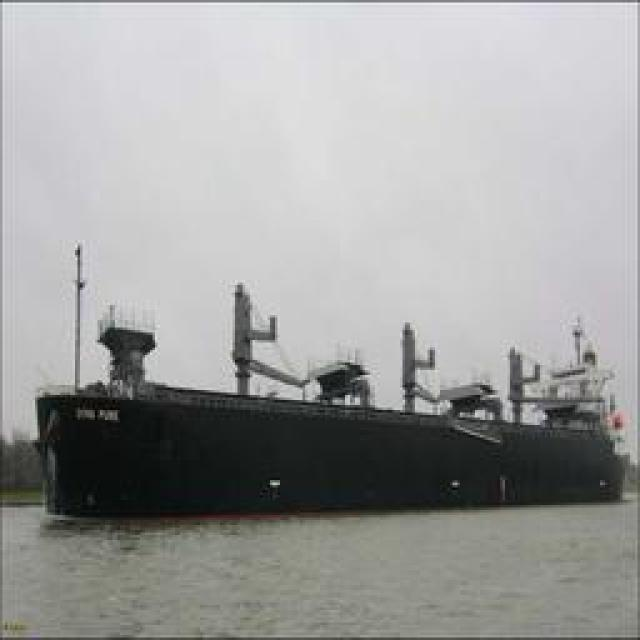Ship: (27, 285, 627, 523)
